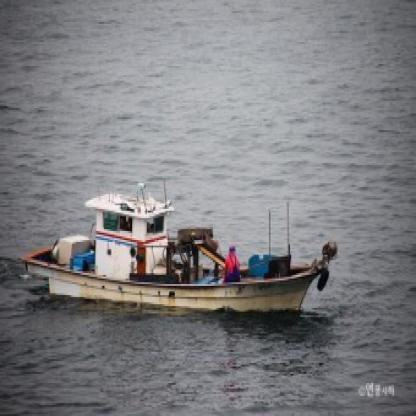fish-b: (12, 170, 344, 332)
